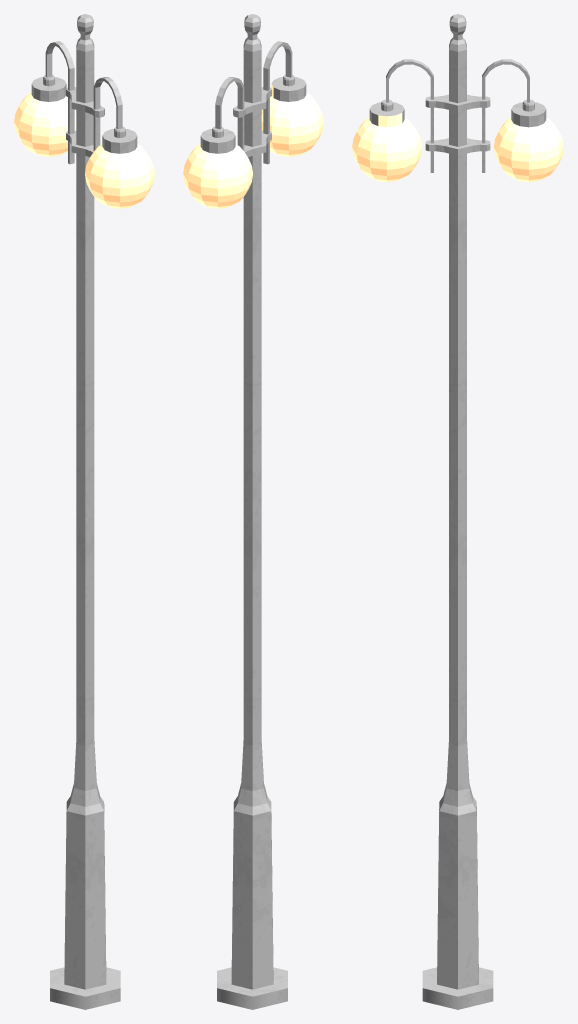
Rendered from StationLamp_A_001.fbx.
3 views of the same model, side by side, from view 1: azimuth 30°, elevation 25°; view 2: azimuth 150°, elevation 25°; view 3: azimuth 270°, elevation 25° (orthographic).
Visible parts, largest first — view 1: StationLamp_A_001; view 2: StationLamp_A_001; view 3: StationLamp_A_001.
Part boxes in pixels (x1,y1,x2,y2): StationLamp_A_001: (14,14,154,1009); StationLamp_A_001: (183,14,323,1009); StationLamp_A_001: (352,14,563,1009).
Bounding box in the file's own units: 23.54 × 310 × 60.92.
Materials: 2 (1 with a texture image).
